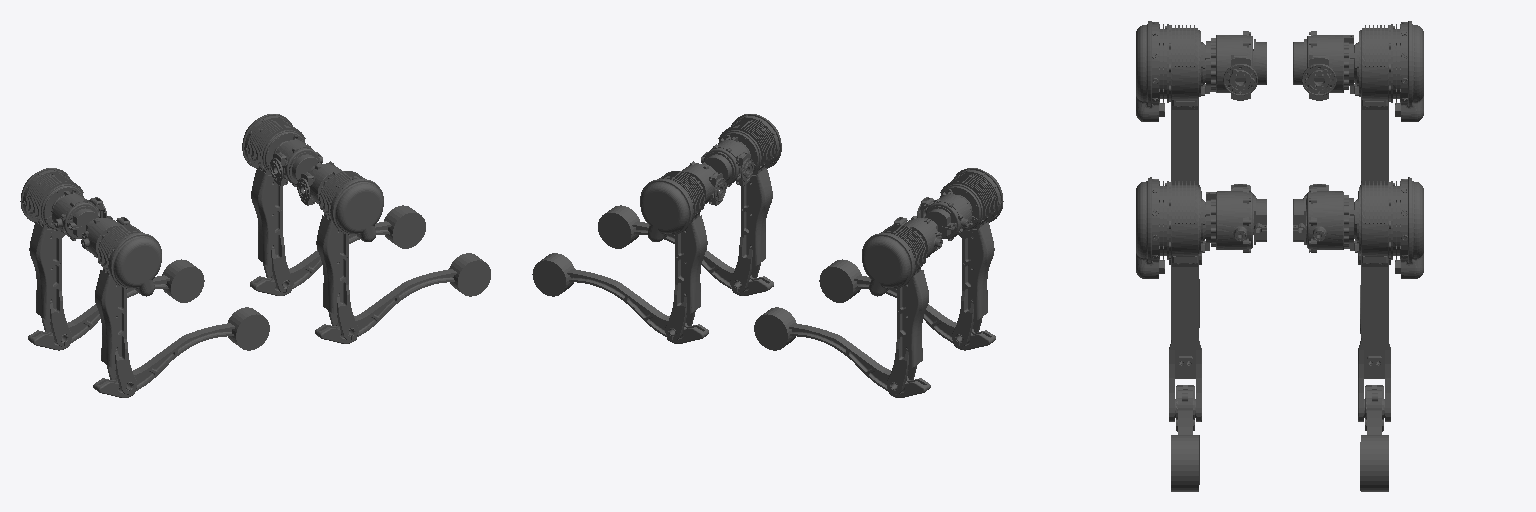
The robot description file, URDF, robot "mini":
<?xml version="1.0" ?>
<!-- =================================================================================== -->
<!-- |    This document was autogenerated by xacro from jueying_black_correct.urdf     | -->
<!-- |    EDITING THIS FILE BY HAND IS NOT RECOMMENDED                                 | -->
<!-- =================================================================================== -->


<robot name="mini" xmlns:xacro="http://www.ros.org/wiki/xacro">
  <material name="grey">
    <color rgba="0.4 0.4 0.4 1.0"/>
  </material>

  <link name="origin_link">
    <inertial>
      <mass value="1e-5"/>
      <origin rpy="0 0 0" xyz="0 0 0"/>
      <inertia ixx="0" ixy="0" ixz="0" iyy="0" iyz="0" izz="0"/>
    </inertial>
    <collision>
      <geometry>
        <box size="0.02 0.02 0.02"/>
      </geometry>
      <origin rpy="0.0 0.0 0.0" xyz="0.0 0.0 0.0"/>
    </collision>
  </link>
  <joint name="origin_baselink_joint" type="fixed">
    <origin rpy="0 0 0" xyz="0 0 0.0"/>
    <parent link="origin_link"/>
    <child link="base_link"/>
  </joint>
  <!--
  <link name="imu_link">
    <inertial>
      <mass value="0.001"/>
      <origin rpy="0 0 0" xyz="0 0 0"/>
      <inertia ixx="0.0001" ixy="0" ixz="0" iyy="0.000001" iyz="0" izz="0.0001"/>
    </inertial>
    <visual>
      <origin rpy="0 0 0" xyz="0 0 0"/>
      <geometry>
        <box size="0.001 0.001 0.001"/>
      </geometry>
    </visual>
    <collision>
      <origin rpy="0 0 0" xyz="0 0 0"/>
      <geometry>
        <box size=".001 .001 .001"/>
      </geometry>
    </collision>
  </link>
  <joint name="imu_joint" type="fixed">
    <axis xyz="0 0 0"/>
    <origin xyz="0 0 0"/>
    <parent link="base_link"/>
    <child link="imu_link"/>
  </joint>
  -->

  <link name="base_link">
    <inertial>
      <origin rpy="0 0 0" xyz="0.062025 -0.00020608 0.036811"/>
      <mass value="22"/>
      <inertia ixx="0.030916" ixy="-0.00015304" ixz="-0.019048" iyy="0.24659" iyz="-1.0144E-05" izz="0.23908"/>
    </inertial>
    <visual>
      <origin rpy="0 0 0" xyz="0 0 0"/>
      <geometry>
        <mesh filename="../meshes/base_link.STL"/>
      </geometry>
      <material name="grey"/>
    </visual>
    <collision>
      <origin rpy="0 0 0" xyz="0 0 0"/>
      <geometry>
        <mesh filename="../meshes/base_link.STL"/>
      </geometry>
    </collision>
  </link>


  
  <link name="FL_HipX">
    <inertial>
      <origin rpy="0 0 0" xyz="-0.008972 0.0034481 -0.00046845"/>
      <mass value="1.7"/>
      <inertia ixx="0.00019667" ixy="-4.8374E-06" ixz="6.5367E-07" iyy="0.0002677" iyz="1.8987E-06" izz="0.00025573"/>
    </inertial>
    <visual>
      <origin rpy="0 0 0" xyz="0 0 0"/>
      <geometry>
        <mesh filename="../meshes/FL_HipX.STL"/>
      </geometry>
      <material name="grey"/>
    </visual>
    <collision>
      <origin rpy="0 0 0" xyz="0 0 0"/>
      <geometry>
        <mesh filename="../meshes/FL_HipX.STL"/>
      </geometry>
    </collision>
  </link>
  <joint name="FL_hip_motor_2_chassis_joint" type="revolute">
    <origin rpy="0 0 0" xyz="0.295 0.0625 0"/>
    <parent link="base_link"/>
    <child link="FL_HipX"/>
    <axis xyz="-1 0 0"/>
    <limit effort="25" lower="-0.5236" upper="0.5236" velocity="18"/>
    <dynamics damping="1.2" friction="0.2"/>
  </joint>

  <link name="FL_HipY">
    <inertial>
      <origin rpy="0 0 0" xyz="-0.0087166 0.017938 -0.090687"/>
      <mass value="3"/>
      <inertia ixx="0.009502" ixy="-0.00013152" ixz="-0.00045866" iyy="0.0094286" iyz="-0.0010116" izz="0.001321"/>
    </inertial>
    <visual>
      <origin rpy="0 0 0" xyz="0 0 0"/>
      <geometry>
        <mesh filename="../meshes/FL_HipY.STL"/>
      </geometry>
      <material name="grey"/>
    </visual>
    <collision>
      <origin rpy="0 0 0" xyz="0 0 0"/>
      <geometry>
        <mesh filename="../meshes/FL_HipY.STL"/>
      </geometry>
    </collision>
  </link>
  <joint name="FL_upper_leg_2_hip_motor_joint" type="revolute">
    <origin rpy="0 0 0" xyz="0 0.088 0"/>
    <parent link="FL_HipX"/>
    <child link="FL_HipY"/>
    <axis xyz="0 -1 0"/>
    <limit effort="25" lower="-2.7925" upper="0.3491" velocity="18"/>
    <dynamics damping="1.2" friction="0.2"/>
  </joint>

  <link name="FL_Knee">
    <inertial>
      <origin rpy="0 0 0" xyz="0.0041187 -2.5016E-07 -0.14755"/>
      <mass value="0.3"/>
      <inertia ixx="0.0054815" ixy="1.545E-10" ixz="9.7849E-05" iyy="0.0055465" iyz="7.5423E-09" izz="0.00010377"/>
    </inertial>
    <visual>
      <origin rpy="0 0 0" xyz="0 0 0"/>
      <geometry>
        <mesh filename="../meshes/FL_Knee.STL"/>
      </geometry>
      <material name="grey"/>
    </visual>
    <collision>
      <origin rpy="0 0 0" xyz="0 0 0"/>
      <geometry>
        <mesh filename="../meshes/FL_Knee.STL"/>
      </geometry>
    </collision>
  </link>
  <joint name="FL_lower_leg_2_upper_leg_joint" type="revolute">
    <origin rpy="0 0 0" xyz="0 0 -0.33"/>
    <parent link="FL_HipY"/>
    <child link="FL_Knee"/>
    <axis xyz="0 -1 0"/>
    <limit effort="45" lower="0.6981" upper="2.7925" velocity="18"/>
    <dynamics damping="1.2" friction="0.2"/>
  </joint>

  <link name="FL_foot">
  <contact>
      <lateral_friction value="1"/>
  </contact>
    <inertial>
      <origin rpy="0 0 0" xyz="0 -0 0"/>
       <mass value="1e-5"/>
       <inertia ixx="0" ixy="0" ixz="0" iyy="0" iyz="0" izz="0"/>
    </inertial>
    <visual>
      <origin rpy="0 0 0" xyz="0 0.0 0"/>
      <geometry>
        <cylinder length="0.045" radius="0.045"/>
      </geometry>
      <material name="grey"/>
    </visual>
    <collision>
      <origin rpy="0 0 0" xyz="0 0.0 0"/>
      <geometry>
        <cylinder length="0.045" radius="0.045"/>
      </geometry>
    </collision>
  </link>
  <joint name="FL_lower_leg_2_foot_joint" type="fixed">
    <axis xyz="0 0 0"/>
	  <parent link="FL_Knee"/>
      <child link="FL_foot"/>
	  <origin rpy="1.57 0 0" xyz="0.0 0  -0.335"/>
  </joint>



  <link name="FR_HipX">
    <inertial>
      <origin rpy="0 0 0" xyz="-0.008972 -0.0034481 0.00046845"/>
      <mass value="1.7"/>
      <inertia ixx="0.00019667" ixy="4.8374E-06" ixz="-6.5367E-07" iyy="0.0002677" iyz="1.8987E-06" izz="0.00025573"/>
    </inertial>
    <visual>
      <origin rpy="0 0 0" xyz="0 0 0"/>
      <geometry>
        <mesh filename="../meshes/FR_HipX.STL"/>
      </geometry>
      <material name="grey"/>
    </visual>
    <collision>
      <origin rpy="0 0 0" xyz="0 0 0"/>
      <geometry>
        <mesh filename="../meshes/FR_HipX.STL"/>
      </geometry>
    </collision>
  </link>
  <joint name="FR_hip_motor_2_chassis_joint" type="revolute">
    <origin rpy="0 0 0" xyz="0.295 -0.0625 0"/>
    <parent link="base_link"/>
    <child link="FR_HipX"/>
    <axis xyz="-1 0 0"/>
    <limit effort="25" lower="-0.5236" upper="0.5236" velocity="18"/>
    <dynamics damping="1.2" friction="0.2"/>
  </joint>

  <link name="FR_HipY">
    <inertial>
      <origin rpy="0 0 0" xyz="-0.0087151 -0.017939 -0.090687"/>
      <mass value="3"/>
      <inertia ixx="0.0095019" ixy="0.00013148" ixz="-0.00045867" iyy="0.0094286" iyz="0.0010116" izz="0.0013209"/>
    </inertial>
    <visual>
      <origin rpy="0 0 0" xyz="0 0 0"/>
      <geometry>
        <mesh filename="../meshes/FR_HipY.STL"/>
      </geometry>
      <material name="grey"/>
    </visual>
    <collision>
      <origin rpy="0 0 0" xyz="0 0 0"/>
      <geometry>
        <mesh filename="../meshes/FR_HipY.STL"/>
      </geometry>
    </collision>
  </link>
  <joint name="FR_upper_leg_2_hip_motor_joint" type="revolute">
    <origin rpy="0 0 0" xyz="0 -0.088 0"/>
    <parent link="FR_HipX"/>
    <child link="FR_HipY"/>
    <axis xyz="0 -1 0"/>
    <limit effort="25" lower="-2.7925" upper="0.3491" velocity="18"/>
    <dynamics damping="1.2" friction="0.2"/>
  </joint>

  <link name="FR_Knee">
    <inertial>
      <origin rpy="0 0 0" xyz="0.0041187 -2.5016E-07 -0.14755"/>
      <mass value="0.3"/>
      <inertia ixx="0.0054815" ixy="1.545E-10" ixz="9.7849E-05" iyy="0.0055465" iyz="7.5424E-09" izz="0.00010377"/>
    </inertial>
    <visual>
      <origin rpy="0 0 0" xyz="0 0 0"/>
      <geometry>
        <mesh filename="../meshes/FR_Knee.STL"/>
      </geometry>
      <material name="grey"/>
    </visual>
    <collision>
      <origin rpy="0 0 0" xyz="0 0 0"/>
      <geometry>
        <mesh filename="../meshes/FR_Knee.STL"/>
      </geometry>
    </collision>
  </link>
  <joint name="FR_lower_leg_2_upper_leg_joint" type="revolute">
    <origin rpy="0 0 0" xyz="0 0 -0.33"/>
    <parent link="FR_HipY"/>
    <child link="FR_Knee"/>
    <axis xyz="0 -1 0"/>
    <limit effort="45" lower="0.6981" upper="2.7925" velocity="18"/>
    <dynamics damping="1.2" friction="0.2"/>
  </joint>

  <link name="FR_foot">
  <contact>
      <lateral_friction value="1"/>
  </contact>
    <inertial>
      <origin rpy="0 0 0" xyz="0 -0 0"/>
       <mass value="1e-5"/>
       <inertia ixx="0" ixy="0" ixz="0" iyy="0" iyz="0" izz="0"/>
    </inertial>
    <visual>
      <origin rpy="0 0 0" xyz="0 0.0 0"/>
      <geometry>
        <cylinder length="0.045" radius="0.045"/>
        <!-- <cylinder length="0.1" radius="0.005"/> -->
      </geometry>
      <material name="grey"/>
    </visual>
    <collision>
      <origin rpy="0 0 0" xyz="0 0.0 0"/>
      <geometry>
        <cylinder length="0.045" radius="0.045"/>
      </geometry>
    </collision>
  </link>
  <joint name="FR_lower_leg_2_foot_joint" type="fixed">
    <axis xyz="0 0 0"/>
	  <parent link="FR_Knee"/>
      <child link="FR_foot"/>
	  <!-- <origin rpy="1.57 0 0" xyz="0.0 0  -0.335"/> -->
	  <origin rpy="1.57 0 0" xyz="0.0 0  -0.335"/>
  </joint>





  <link name="HL_HipX">
    <inertial>
      <origin rpy="0 0 0" xyz="0 0 0"/>
      <mass value="1.7"/>
      <inertia ixx="0" ixy="0" ixz="0" iyy="0" iyz="0" izz="0"/>
    </inertial>
    <visual>
      <origin rpy="0 0 0" xyz="0 0 0"/>
      <geometry>
        <mesh filename="../meshes/HL_HipX.STL"/>
      </geometry>
      <material name="grey"/>
    </visual>
    <collision>
      <origin rpy="0 0 0" xyz="0 0 0"/>
      <geometry>
        <mesh filename="../meshes/HL_HipX.STL"/>
      </geometry>
    </collision>
  </link>
  <joint name="RL_hip_motor_2_chassis_joint" type="revolute">
    <origin rpy="0 0 0" xyz="-0.295 0.0625 0"/>
    <parent link="base_link"/>
    <child link="HL_HipX"/>
    <axis xyz="-1 0 0"/>
    <limit effort="25" lower="-0.5236" upper="0.5236" velocity="18"/>
    <dynamics damping="1.2" friction="0.2"/>
  </joint>

  <link name="HL_HipY">
    <inertial>
      <origin rpy="0 0 0" xyz="-0.0087166 0.017938 -0.090687"/>
      <mass value="3"/>
      <inertia ixx="0.009502" ixy="-0.00013152" ixz="-0.00045866" iyy="0.0094286" iyz="-0.0010116" izz="0.001321"/>
    </inertial>
    <visual>
      <origin rpy="0 0 0" xyz="0 0 0"/>
      <geometry>
        <mesh filename="../meshes/HL_HipY.STL"/>
      </geometry>
      <material name="grey"/>
    </visual>
    <collision>
      <origin rpy="0 0 0" xyz="0 0 0"/>
      <geometry>
        <mesh filename="../meshes/HL_HipY.STL"/>
      </geometry>
    </collision>
  </link>
  <joint name="RL_upper_leg_2_hip_motor_joint" type="revolute">
    <origin rpy="0 0 0" xyz="0 0.088 0"/>
    <parent link="HL_HipX"/>
    <child link="HL_HipY"/>
    <axis xyz="0 -1 0"/>
    <limit effort="25" lower="-2.7925" upper="0.2491" velocity="18"/>
    <dynamics damping="1.2" friction="0.2"/>
  </joint>

  <link name="HL_Knee">
    <inertial>
      <origin rpy="0 0 0" xyz="0.0041187 -2.5016E-07 -0.14755"/>
      <mass value="0.3"/>
      <inertia ixx="0.0054815" ixy="1.545E-10" ixz="9.7849E-05" iyy="0.0055465" iyz="7.5424E-09" izz="0.00010377"/>
    </inertial>
    <visual>
      <origin rpy="0 0 0" xyz="0 0 0"/>
      <geometry>
        <mesh filename="../meshes/HL_Knee.STL"/>
      </geometry>
      <material name="grey"/>
    </visual>
    <collision>
      <origin rpy="0 0 0" xyz="0 0 0"/>
      <geometry>
        <mesh filename="../meshes/HL_Knee.STL"/>
      </geometry>
    </collision>
  </link>
  <joint name="RL_lower_leg_2_upper_leg_joint" type="revolute">
    <origin rpy="0 0 0" xyz="0 0 -0.33"/>
    <parent link="HL_HipY"/>
    <child link="HL_Knee"/>
    <axis xyz="0 -1 0"/>
    <limit effort="45" lower="0.6981" upper="2.7925" velocity="18"/>
    <dynamics damping="1.2" friction="0.2"/>
  </joint>

  <link name="HL_foot">
  <contact>
      <lateral_friction value="1"/>
  </contact>
    <inertial>
      <origin rpy="0 0 0" xyz="0 -0 0"/>
       <mass value="1e-5"/>
       <inertia ixx="0" ixy="0" ixz="0" iyy="0" iyz="0" izz="0"/>
    </inertial>
    <visual>
      <origin rpy="0 0 0" xyz="0 0.0 0"/>
      <geometry>
        <cylinder length="0.045" radius="0.045"/>
      </geometry>
      <material name="grey"/>
    </visual>
    <collision>
      <origin rpy="0 0 0" xyz="0 0.0 0"/>
      <geometry>
        <cylinder length="0.045" radius="0.045"/>
      </geometry>
    </collision>
  </link>
  <joint name="RL_lower_leg_2_foot_joint" type="fixed">
    <axis xyz="0 0 0"/>
	  <parent link="HL_Knee"/>
      <child link="HL_foot"/>
	  <origin rpy="1.57 0 0" xyz="0.0 0  -0.335"/>
  </joint>

  <link name="HR_HipX">
    <inertial>
      <origin rpy="0 0 0" xyz="0.008972 -0.0034481 -0.00046845"/>
      <mass value="1.7"/>
      <inertia ixx="0.00019667" ixy="-4.8374E-06" ixz="-6.5367E-07" iyy="0.0002677" iyz="-1.8987E-06" izz="0.00025573"/>
    </inertial>
    <visual>
      <origin rpy="0 0 0" xyz="0 0 0"/>
      <geometry>
        <mesh filename="../meshes/HR_HipX.STL"/>
      </geometry>
      <material name="grey"/>
    </visual>
    <collision>
      <origin rpy="0 0 0" xyz="0 0 0"/>
      <geometry>
        <mesh filename="../meshes/HR_HipX.STL"/>
      </geometry>
    </collision>
  </link>
  <joint name="RR_hip_motor_2_chassis_joint" type="revolute">
    <origin rpy="0 0 0" xyz="-0.295 -0.0625 0"/>
    <parent link="base_link"/>
    <child link="HR_HipX"/>
    <axis xyz="-1 0 0"/>
    <limit effort="25" lower="-0.5236" upper="0.5236" velocity="18"/>
    <dynamics damping="1.2" friction="0.2"/>
  </joint>

  <link name="HR_HipY">
    <inertial>
      <origin rpy="0 0 0" xyz="-0.0087151 -0.017939 -0.090687"/>
      <mass value="3"/>
      <inertia ixx="0.0095019" ixy="0.00013148" ixz="-0.00045867" iyy="0.0094286" iyz="0.0010116" izz="0.0013209"/>
    </inertial>
    <visual>
      <origin rpy="0 0 0" xyz="0 0 0"/>
      <geometry>
        <mesh filename="../meshes/HR_HipY.STL"/>
      </geometry>
      <material name="grey"/>
    </visual>
    <collision>
      <origin rpy="0 0 0" xyz="0 0 0"/>
      <geometry>
        <mesh filename="../meshes/HR_HipY.STL"/>
      </geometry>
    </collision>
  </link>
  <joint name="RR_upper_leg_2_hip_motor_joint" type="revolute">
    <origin rpy="0 0 0" xyz="0 -0.088 0"/>
    <parent link="HR_HipX"/>
    <child link="HR_HipY"/>
    <axis xyz="0 -1 0"/>
    <limit effort="25" lower="-2.7925" upper="0.3491" velocity="18"/>
    <dynamics damping="1.2" friction="0.2"/>
  </joint>

  <link name="HR_Knee">
    <inertial>
      <origin rpy="0 0 0" xyz="0.0041187 -2.5016E-07 -0.14755"/>
      <mass value="0.3"/>
      <inertia ixx="0.0054815" ixy="1.5451E-10" ixz="9.7849E-05" iyy="0.0055465" iyz="7.5424E-09" izz="0.00010377"/>
    </inertial>
    <visual>
      <origin rpy="0 0 0" xyz="0 0 0"/>
      <geometry>
        <mesh filename="../meshes/HR_Knee.STL"/>
      </geometry>
      <material name="grey"/>
    </visual>
    <collision>
      <origin rpy="0 0 0" xyz="0 0 0"/>
      <geometry>
        <mesh filename="../meshes/HR_Knee.STL"/>
      </geometry>
    </collision>
  </link>
  <joint name="RR_lower_leg_2_upper_leg_joint" type="revolute">
    <origin rpy="0 0 0" xyz="0 0 -0.33"/>
    <parent link="HR_HipY"/>
    <child link="HR_Knee"/>
    <axis xyz="0 -1 0"/>
    <limit effort="45" lower="0.6981" upper="2.7925" velocity="18"/>
    <dynamics damping="1.2" friction="0.2"/>
  </joint>
    
  <link name="HR_foot">
  <contact>
      <lateral_friction value="1"/>
  </contact>
    <inertial>
      <origin rpy="0 0 0" xyz="0 -0 0"/>
       <mass value="1e-5"/>
       <inertia ixx="0" ixy="0" ixz="0" iyy="0" iyz="0" izz="0"/>
    </inertial>
    <visual>
      <origin rpy="0 0 0" xyz="0 0.0 0"/>
      <geometry>
        <cylinder length="0.045" radius="0.045"/>
      </geometry>
      <material name="grey"/>
    </visual>
    <collision>
      <origin rpy="0 0 0" xyz="0 0.0 0"/>
      <geometry>
        <cylinder length="0.045" radius="0.045"/>
      </geometry>
    </collision>
  </link>
  <joint name="RR_lower_leg_2_foot_joint" type="fixed">
    <axis xyz="0 0 0"/>
	  <parent link="HR_Knee"/>
      <child link="HR_foot"/>
	  <origin rpy="1.57 0 0" xyz="0.0 0  -0.335"/>
  </joint>

</robot>

--- Render facts (derived) ---
3 views of the same robot in one strip: view 1: azimuth 30°, elevation 25°; view 2: azimuth 150°, elevation 25°; view 3: azimuth 270°, elevation 25° (orthographic).
Model mini with 18 links and 17 joints (12 revolute, 5 fixed), rooted at origin_link, posed all joints at 0 but 4 set to mid-range because 0 is outside their limits (FL_lower_leg_2_upper_leg_joint = 1.75, FR_lower_leg_2_upper_leg_joint = 1.75, RL_lower_leg_2_upper_leg_joint = 1.75, RR_lower_leg_2_upper_leg_joint = 1.75).
Visible links, largest first — view 1: FR_HipY, HR_HipY, HL_HipY, FL_HipY, HR_Knee, FR_Knee, HL_HipX, FL_HipX, HR_foot, FL_foot, HL_Knee, HL_foot (+4 smaller); view 2: FL_HipY, HL_HipY, HR_HipY, FR_HipY, HL_Knee, FL_Knee, HR_HipX, FR_HipX, HL_foot, FL_foot, FR_foot, HR_Knee (+4 smaller); view 3: FR_HipY, FL_HipY, HL_HipY, HR_HipY, FL_HipX, FR_HipX, HL_HipX, HR_HipX, FR_foot, FL_foot, FL_Knee, FR_Knee.
Link boxes in pixels (x1,y1,x2,y2): FR_HipY: (316,171,383,339); HR_HipY: (95,225,161,394); HL_HipY: (20,168,83,346); FL_HipY: (242,114,305,292); HR_Knee: (93,323,234,397); FR_Knee: (315,269,456,343); HL_HipX: (52,191,106,240); FL_HipX: (270,140,322,186); HR_foot: (228,307,269,350); FL_foot: (384,205,425,248); HL_Knee: (28,275,169,350); HL_foot: (162,259,204,302); FL_HipY: (640,171,707,339); HL_HipY: (862,225,928,394); HR_HipY: (940,168,1003,346); FR_HipY: (718,114,781,292); HL_Knee: (789,323,930,397); FL_Knee: (567,269,708,343); HR_HipX: (917,194,971,240); FR_HipX: (701,137,753,186); HL_foot: (754,307,795,350); FL_foot: (532,253,574,296); FR_foot: (598,205,639,248); HR_Knee: (854,275,995,350); FR_HipY: (1136,177,1209,421); FL_HipY: (1350,177,1423,421); HL_HipY: (1350,21,1423,264); HR_HipY: (1136,21,1209,264); FL_HipX: (1293,184,1353,252); FR_HipX: (1206,184,1266,252); HL_HipX: (1293,31,1353,100); HR_HipX: (1206,31,1266,100); FR_foot: (1171,435,1199,491); FL_foot: (1360,435,1388,491); FL_Knee: (1364,385,1384,434); FR_Knee: (1175,385,1195,434).
Size in the robot's own frame: 1.04 by 0.458 by 0.4339 metres.
12 mesh visuals loaded from 13 distinct referenced files (12 binary STL); not drawn: 1 (reference not matched to a file when rendering).
